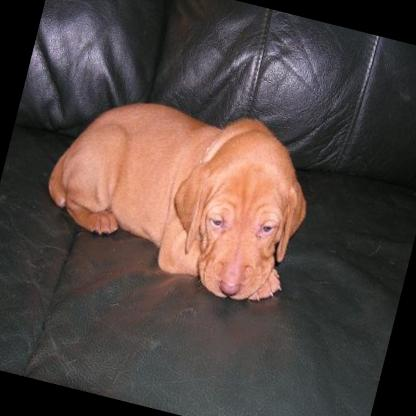vizsla: (29, 70, 326, 311)
